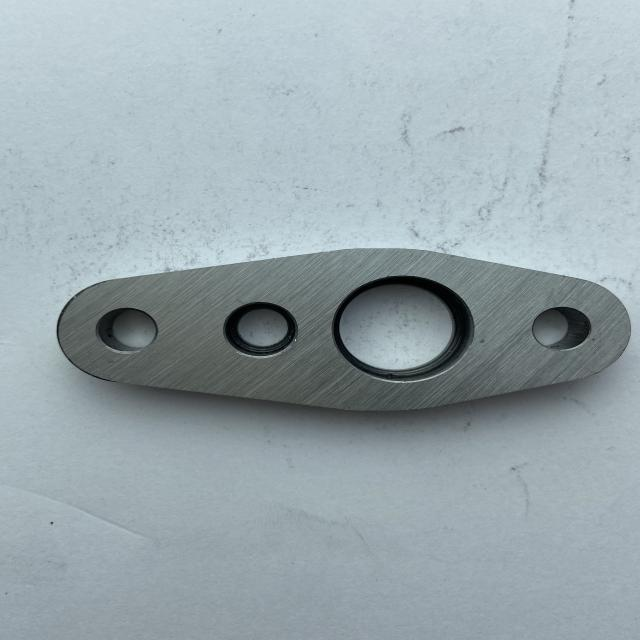lines: (475, 337, 487, 347)
